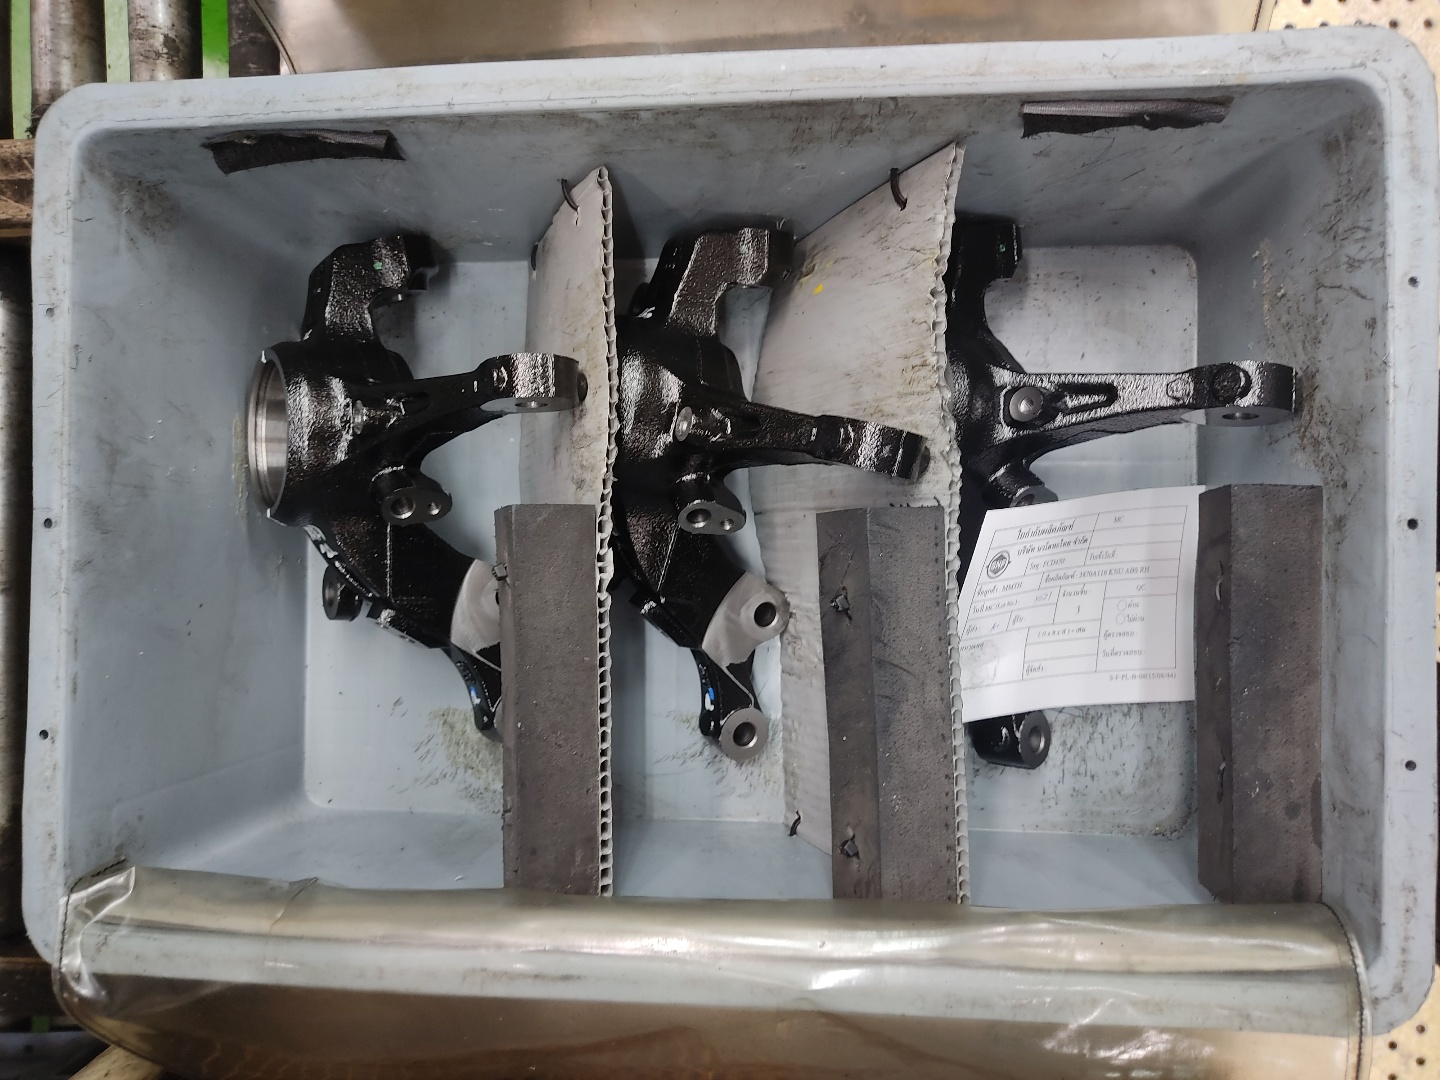abs-rh: (933, 196, 1310, 781), (229, 213, 590, 767), (600, 206, 932, 781)
